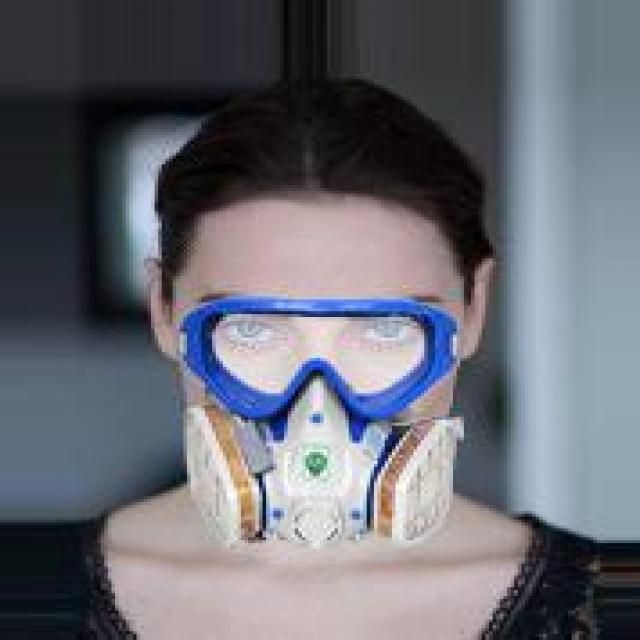mask: (93, 85, 543, 578)
